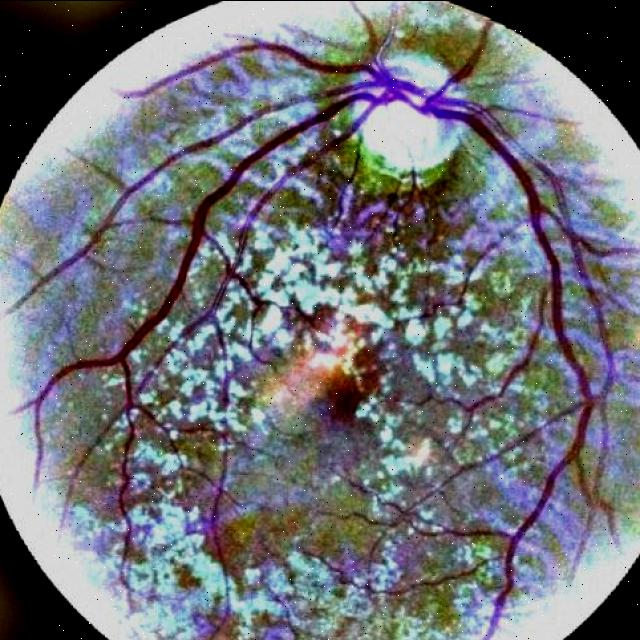Macula: (302, 362, 373, 435)
Nerves: (11, 19, 601, 483)
Optic Disk: (359, 53, 466, 177)
